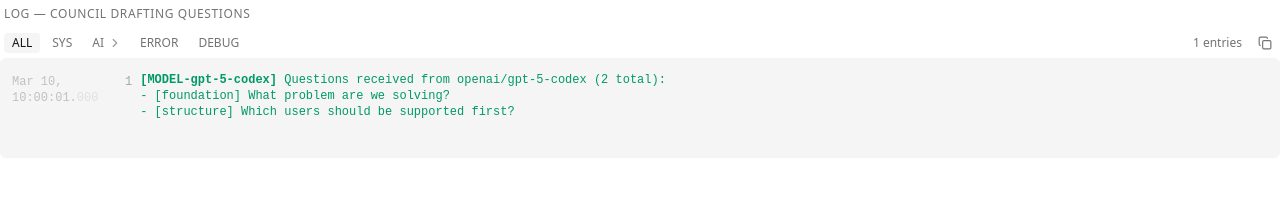
it: PhaseLogPanel › shows model-aware MODEL and THINKING tags in aggregated log tabs
(page scrolled)
Expected: the text "[MODEL-gpt-5-codex]" is shown, x1=140 y1=73 x2=277 y2=87
Expected: the text "[THINKING-gpt-5-codex]" is not shown
Click the button "AI": (95,43) x1=84 y1=33 x2=106 y2=53
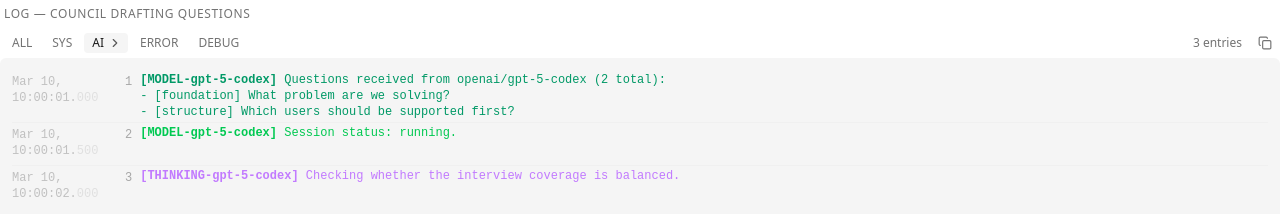
Expected: the text "[MODEL-gpt-5-codex]" is shown 2 times, x1=140 y1=73 x2=277 y2=87; x1=140 y1=126 x2=277 y2=140
Expected: the text "[THINKING-gpt-5-codex]" is shown, x1=140 y1=169 x2=299 y2=183
Expected: the text "Checking whether the interview coverage is balanced" is shown, x1=299 y1=169 x2=680 y2=183
